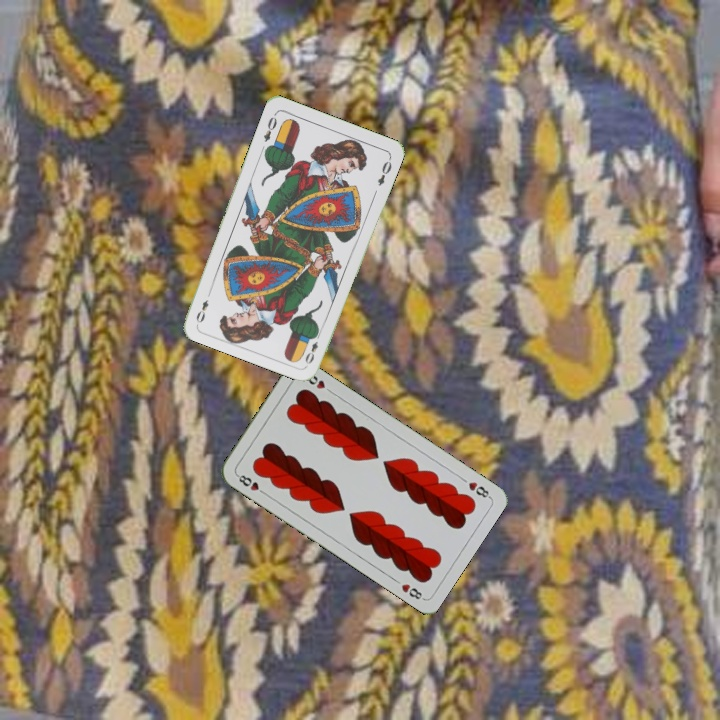EO: (301, 328, 324, 367), (259, 109, 280, 145)
H8: (233, 470, 269, 497), (464, 478, 493, 501)
